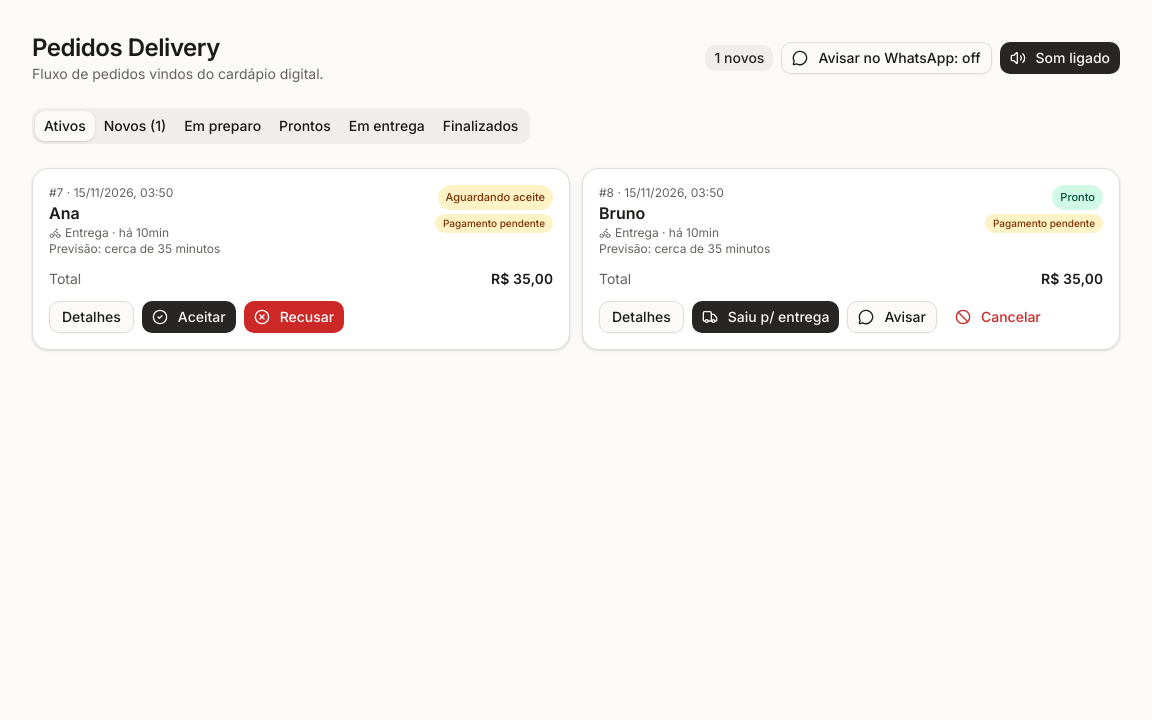
Test: PedidosDelivery › orienta o cadastro quando não há entregadores ativos
expect the text "Bruno" is shown: met, box left=599, top=203, right=645, bottom=223
Click the button "Detalhes" below "Bruno": (641, 317) left=599, top=301, right=684, bottom=333
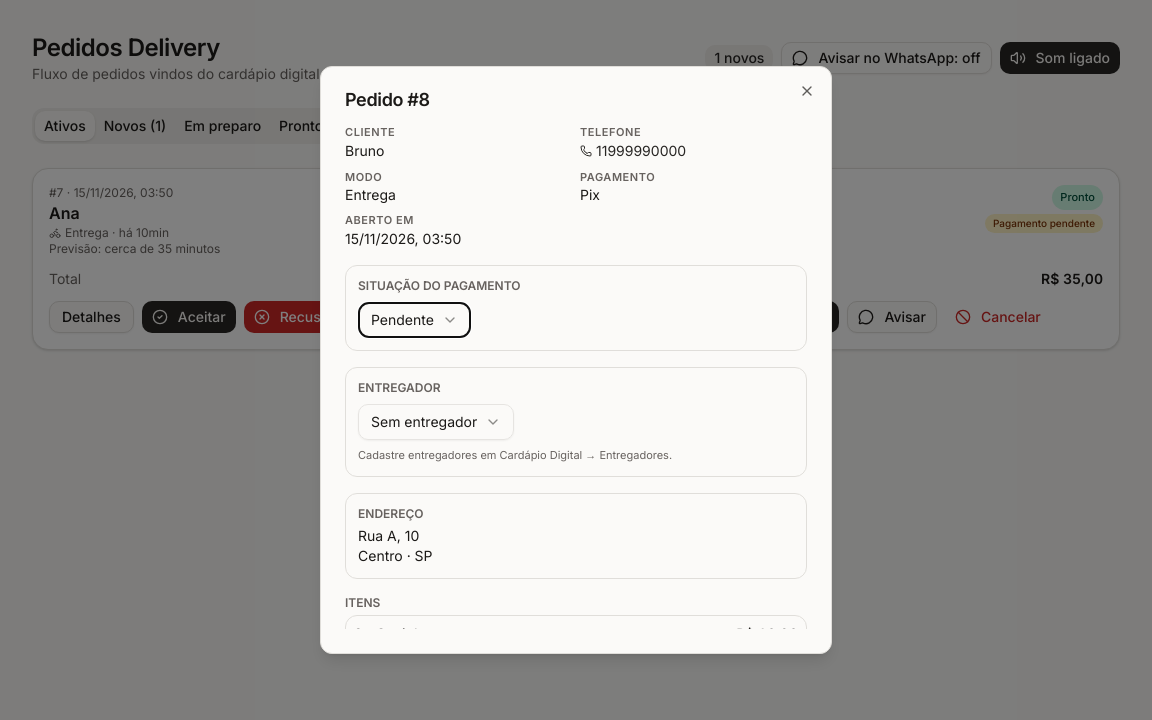
expect the text "Cadastre entregadores em Cardápio Digital → Entregadores." is shown: met, box left=358, top=448, right=672, bottom=462
